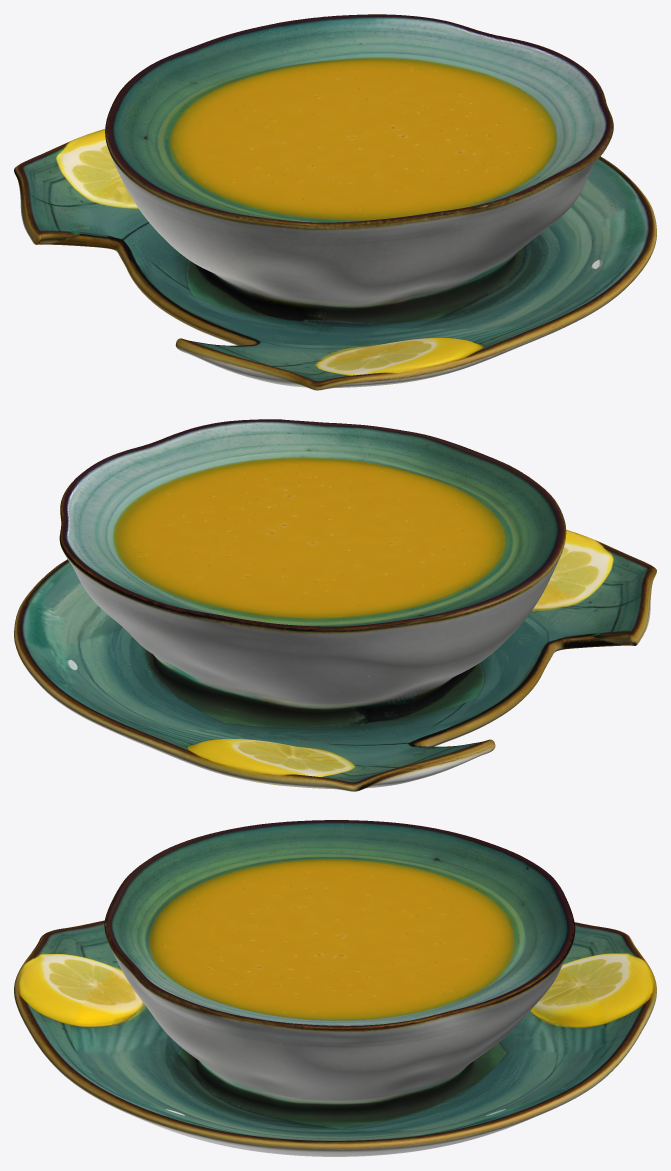
The picture shows the model from 3 angles, top to bottom: view 1: azimuth 30°, elevation 25°; view 2: azimuth 150°, elevation 25°; view 3: azimuth 270°, elevation 25°; orthographic projection. The views are drawn at different scales.
Size of the model in its own units: 1.69 by 0.523 by 1.9.
1 material, 1 textured.
